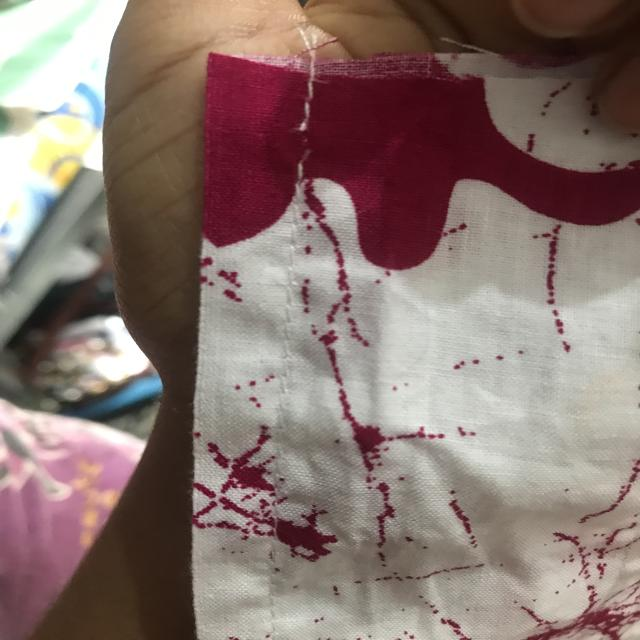broken: (286, 103, 335, 176)
